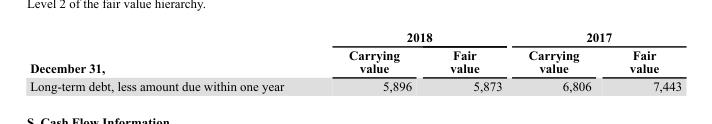table: (29, 29, 681, 92)
table column: (29, 29, 315, 92), (315, 29, 430, 92), (514, 29, 609, 92), (430, 29, 514, 92), (609, 29, 681, 92)
table column header: (29, 29, 681, 76)
table row: (29, 45, 681, 76), (29, 29, 681, 45), (29, 76, 681, 92)
table spanning cell: (29, 29, 315, 76), (315, 29, 514, 45), (514, 29, 681, 45)
